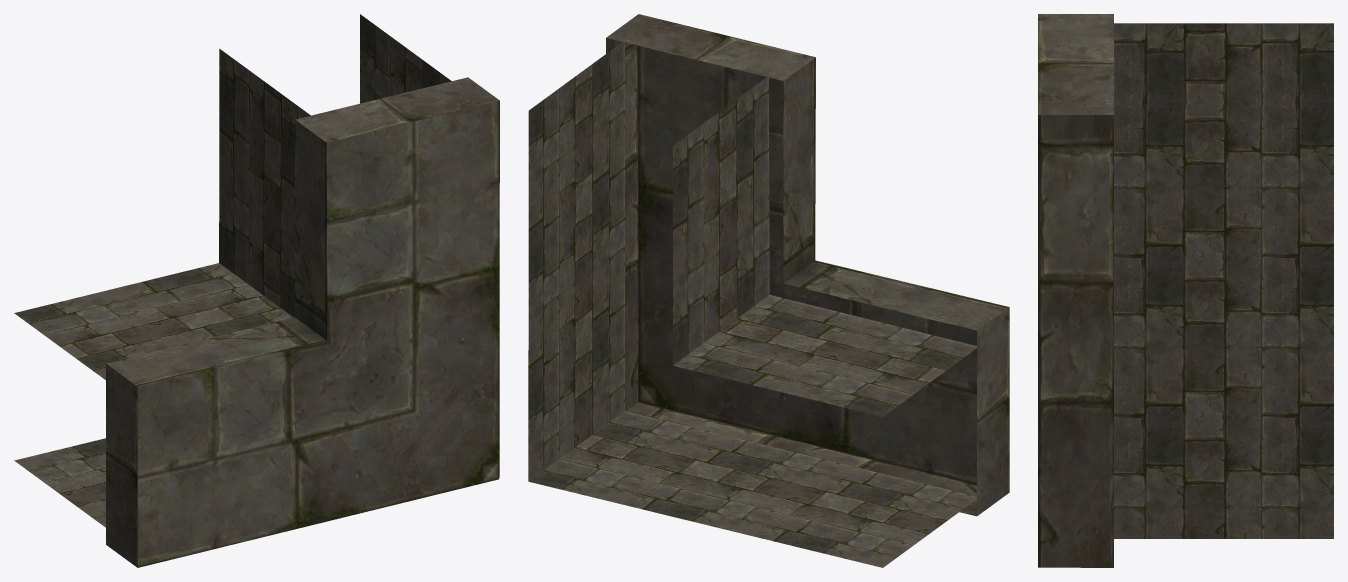
File: zhanchang_fuben_367_weichang02.obj
The picture shows the model from 3 angles, left to right: view 1: azimuth 30°, elevation 25°; view 2: azimuth 150°, elevation 25°; view 3: azimuth 270°, elevation 25°; orthographic projection. The views are drawn at different scales.
Parts seen in each view (by area): view 1: zhanchang_fuben_367_weichang02; view 2: zhanchang_fuben_367_weichang02; view 3: zhanchang_fuben_367_weichang02.
Boxes of the visible parts, x1,y1,x2,y2 form: zhanchang_fuben_367_weichang02: (14,14,499,567); zhanchang_fuben_367_weichang02: (528,14,1009,567); zhanchang_fuben_367_weichang02: (1038,14,1333,567).
Size of the model in its own units: 535 by 535 by 317.
Materials: 1 (1 with a texture image).
